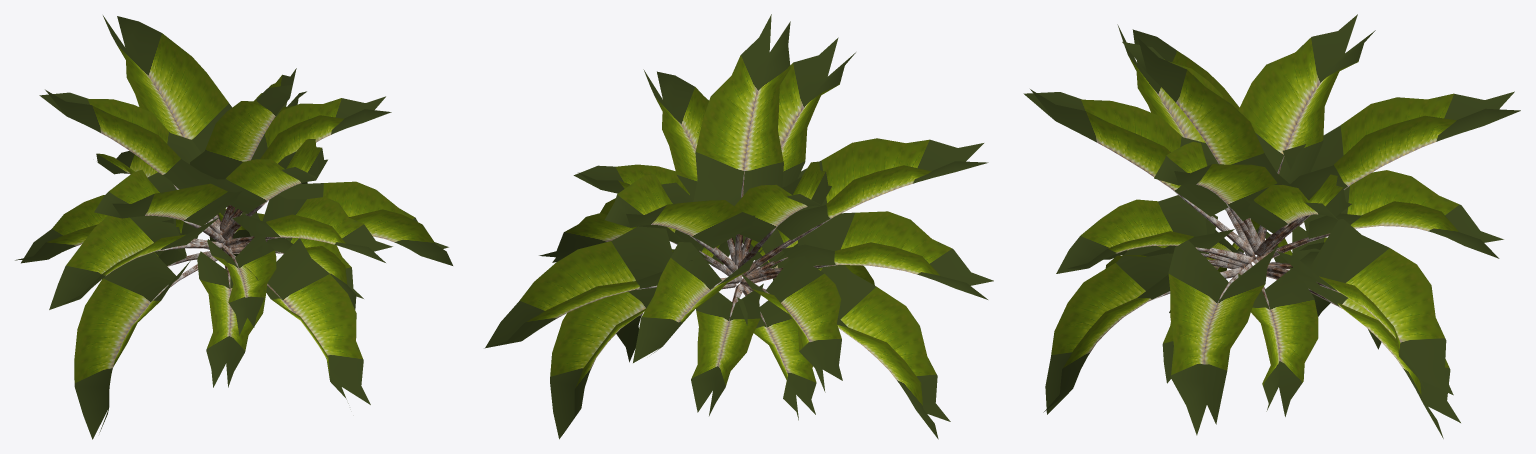
Rendered from leaves.glb.
3 views of the same model, side by side, from view 1: azimuth 30°, elevation 25°; view 2: azimuth 150°, elevation 25°; view 3: azimuth 270°, elevation 25° (orthographic). The views are drawn at different scales.
Visible parts, largest first — view 1: leaves; view 2: leaves; view 3: leaves.
Part boxes in pixels (<box>): leaves: <box>15,15,452,439</box>; leaves: <box>484,14,993,439</box>; leaves: <box>1023,14,1520,438</box>.
Size of the model in its own units: 19.53 by 15.52 by 17.94.
2 materials, 2 textured.
